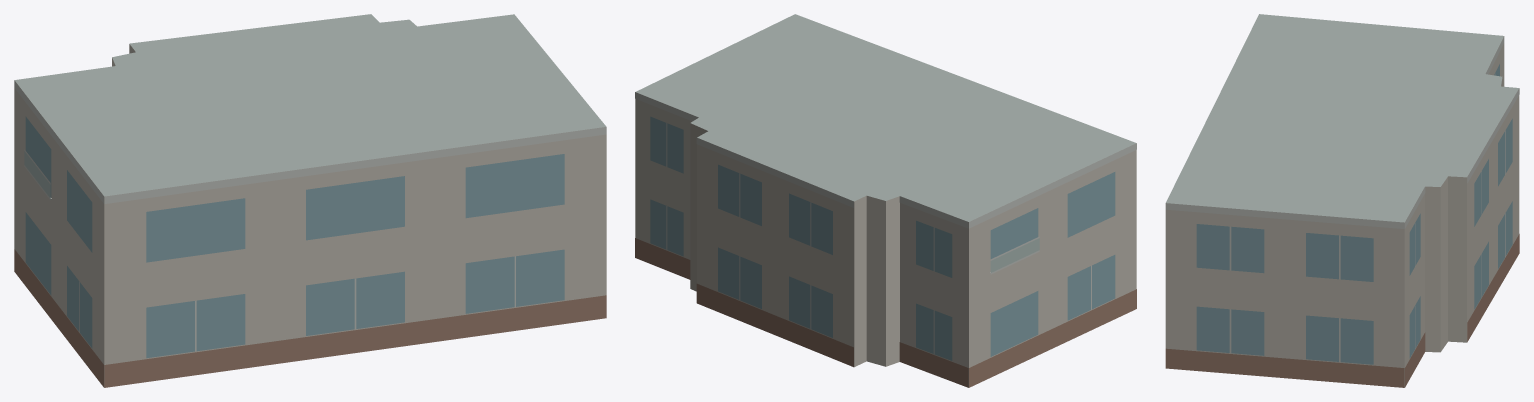
The model's file is survey-upis-32808589.glb.
3 renders of one model, left to right at view 1: azimuth 30°, elevation 25°; view 2: azimuth 150°, elevation 25°; view 3: azimuth 270°, elevation 25°, orthographic. The views are drawn at different scales.
Parts seen in each view (by area): view 1: survey-upis-32808589.tmp; view 2: survey-upis-32808589.tmp; view 3: survey-upis-32808589.tmp.
Boxes of the visible parts, box(x1,y1,x2,y2) form: survey-upis-32808589.tmp: box(14, 14, 606, 387); survey-upis-32808589.tmp: box(635, 14, 1136, 387); survey-upis-32808589.tmp: box(1165, 14, 1519, 387).
Bounding box in the file's own units: 16.51 × 6.1 × 11.84.
